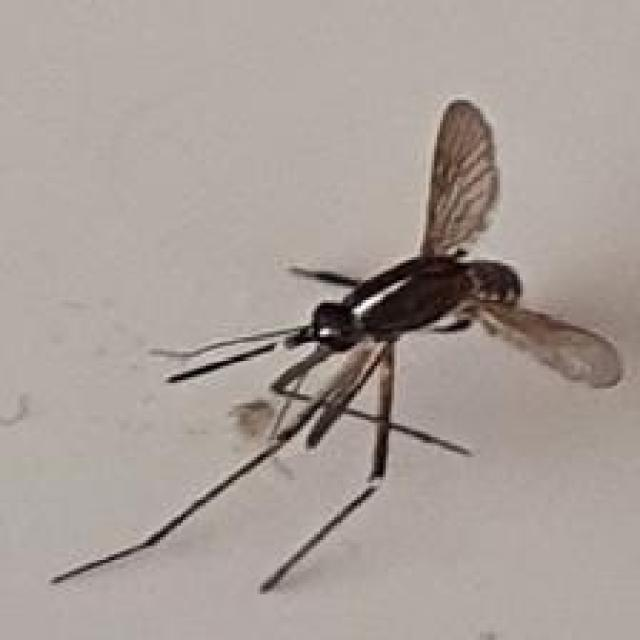Aedes albopictus: (50, 97, 624, 594)
